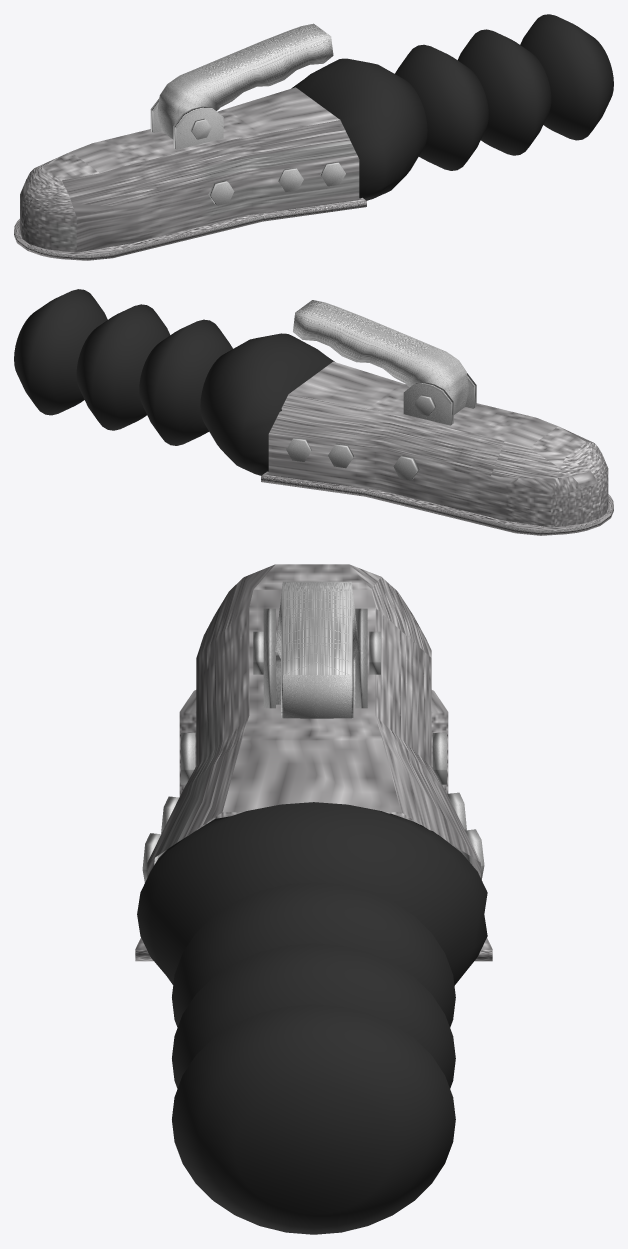
File: coupler4.0.glb
3 views of the same model, one above another, from view 1: azimuth 30°, elevation 25°; view 2: azimuth 150°, elevation 25°; view 3: azimuth 270°, elevation 25° (orthographic). The views are drawn at different scales.
Parts seen in each view (by area): view 1: Cube.007, Cylinder.013, Cube.003, Cube.008, Cylinder.010, Cube.002; view 2: Cube.007, Cylinder.013, Cube.008, Cube.003, Cylinder.010, Cube.002; view 3: Cylinder.013, Cube.007, Cube.003, Cube.008, Cylinder.010, Cube.002.
Boxes of the visible parts, x1,y1,x2,y2 form: Cube.007: (14,87,366,260); Cylinder.013: (291,14,613,200); Cube.003: (166,30,333,139); Cube.008: (157,23,321,137); Cylinder.010: (190,118,345,205); Cube.002: (150,98,223,149); Cube.007: (261,361,613,535); Cylinder.013: (14,289,334,475); Cube.008: (293,306,459,414); Cube.003: (304,300,468,413); Cylinder.010: (286,394,435,480); Cube.002: (403,373,476,425); Cylinder.013: (137,802,487,1234); Cube.007: (135,564,492,961); Cube.003: (275,581,316,718); Cube.008: (317,581,359,718); Cylinder.010: (142,631,484,882); Cube.002: (263,608,367,708).
Size of the model in its own units: 3.58 by 0.9994 by 0.9702.
5 materials, 4 textured.
